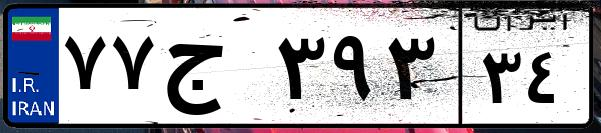3: (270, 28, 330, 110), (385, 28, 445, 110), (475, 38, 525, 113)
4: (525, 38, 570, 115)
7: (57, 26, 110, 100), (110, 28, 158, 98)
9: (330, 28, 385, 110)
ج: (158, 20, 270, 120)
